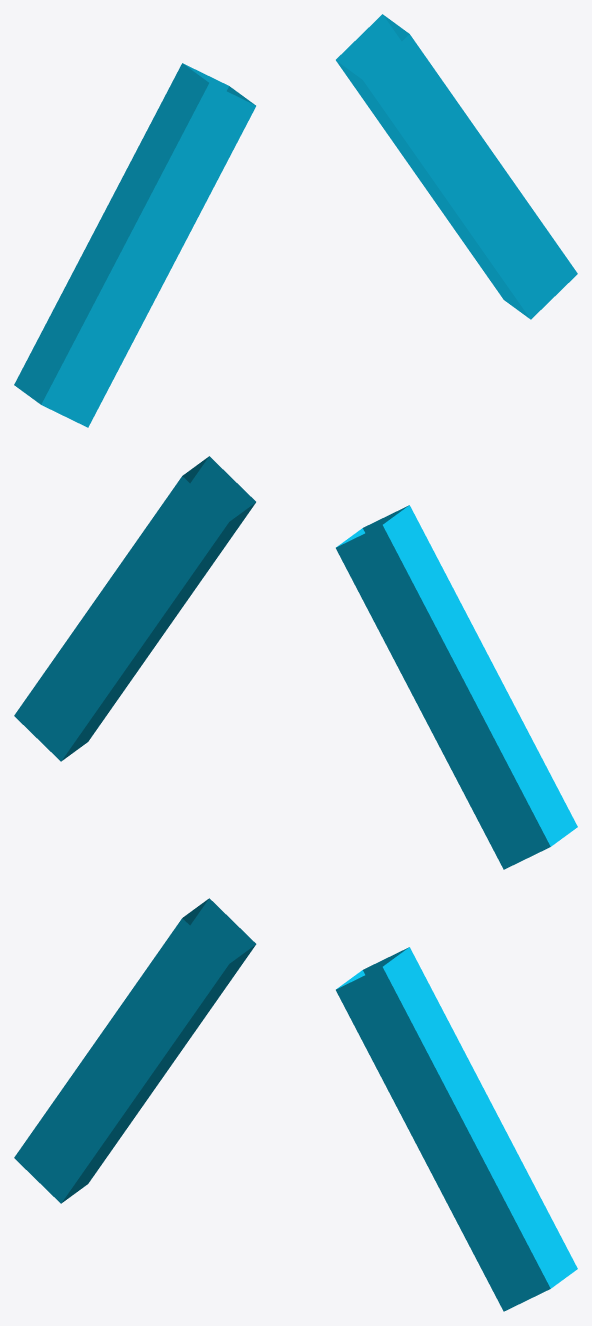
Rendered from Hologram 01 Light.FBX.
The picture shows the model from 3 angles, top to bottom: view 1: azimuth 30°, elevation 25°; view 2: azimuth 150°, elevation 25°; view 3: azimuth 330°, elevation 25°; orthographic projection.
Visible parts, largest first — view 1: Hologram 01 Light; view 2: Hologram 01 Light; view 3: Hologram 01 Light.
Part boxes in pixels (<box>): Hologram 01 Light: <box>14,14,577,427</box>; Hologram 01 Light: <box>14,456,577,869</box>; Hologram 01 Light: <box>14,898,577,1311</box>.
Bounding box in the file's own units: 272 × 153 × 23.86.
